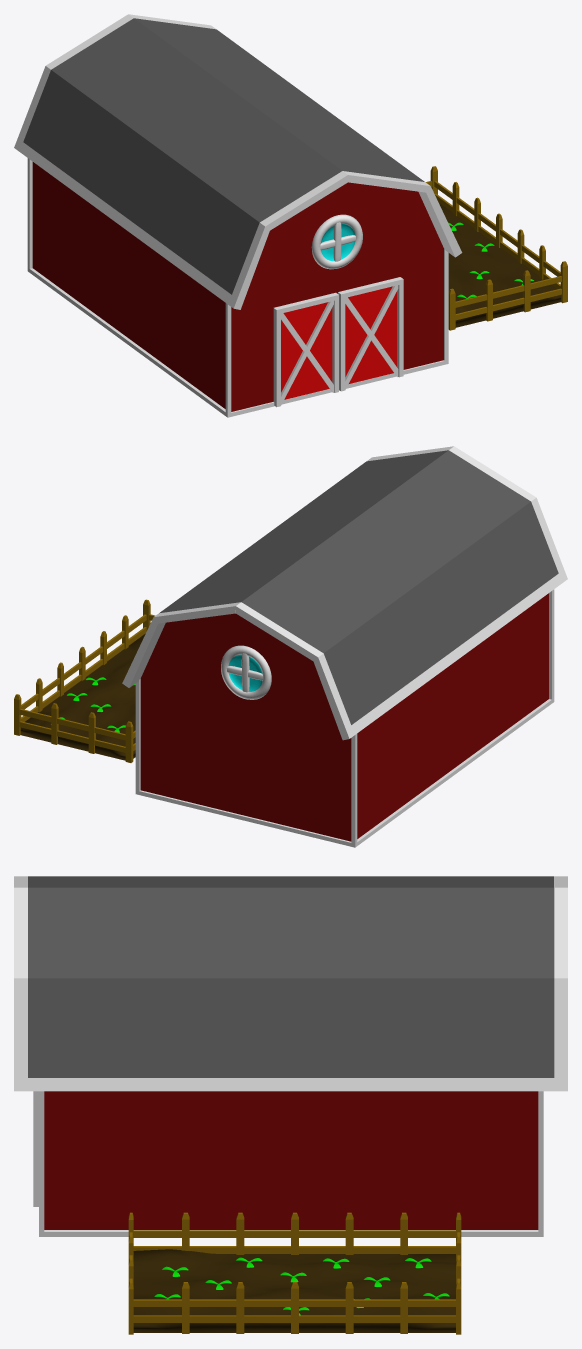
The model's file is Farm.fbx.
3 views of the same model, one above another, from view 1: azimuth 30°, elevation 25°; view 2: azimuth 150°, elevation 25°; view 3: azimuth 270°, elevation 25° (orthographic). The views are drawn at different scales.
Visible parts, largest first — view 1: pCube12; view 2: pCube12; view 3: pCube12.
Boxes of the visible parts, bbox=[...] form: pCube12: bbox=[14, 14, 567, 417]; pCube12: bbox=[14, 446, 567, 847]; pCube12: bbox=[14, 876, 567, 1334].
Bounding box in the file's own units: 10.13 × 5.74 × 10.15.
